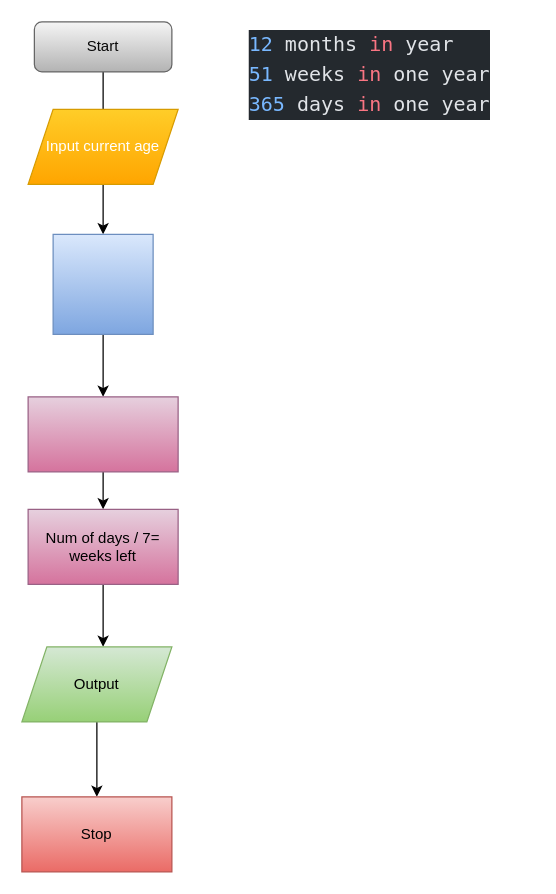
This 556x894 diagram has some shape labels left out. Each missing label, with the centre of its shape:
"Multiply with 365 = Num of days" goes at (102,434).
"Subtract from 90" goes at (102,283).
